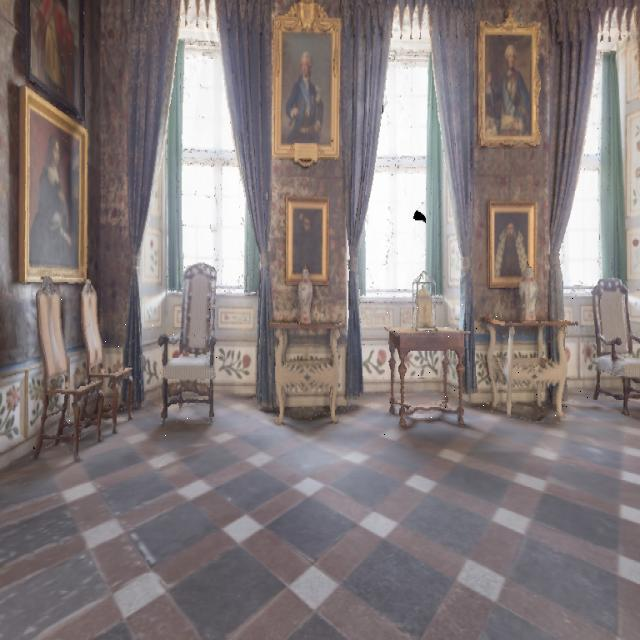chair: (26, 274, 105, 467), (152, 258, 232, 436), (74, 264, 139, 450), (585, 261, 640, 442)
table: (469, 288, 584, 422), (265, 295, 355, 438), (384, 304, 479, 437)
